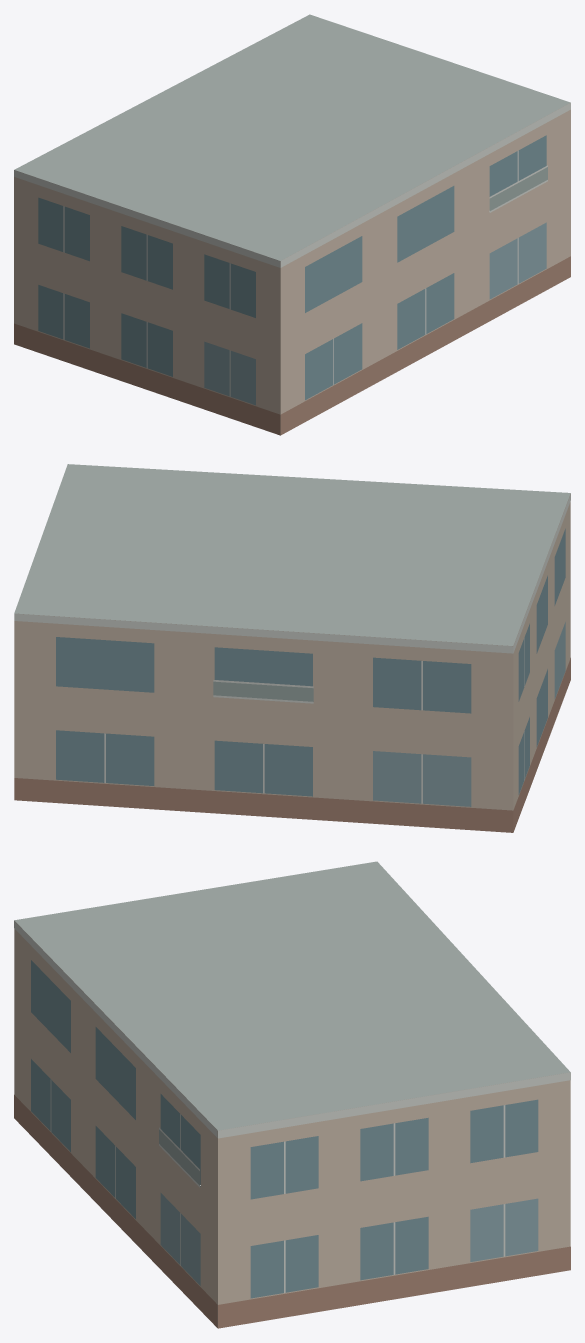
Rendered from survey-upis-32850473.glb.
The picture shows the model from 3 angles, top to bottom: view 1: azimuth 30°, elevation 25°; view 2: azimuth 150°, elevation 25°; view 3: azimuth 270°, elevation 25°; orthographic projection. The views are drawn at different scales.
Parts seen in each view (by area): view 1: survey-upis-32850473.tmp; view 2: survey-upis-32850473.tmp; view 3: survey-upis-32850473.tmp.
Boxes of the visible parts, box(x1,y1,x2,y2) form: survey-upis-32850473.tmp: box(14, 14, 570, 435); survey-upis-32850473.tmp: box(14, 464, 570, 832); survey-upis-32850473.tmp: box(14, 861, 570, 1328).
Bounding box in the file's own units: 17.81 × 6.1 × 15.56.
